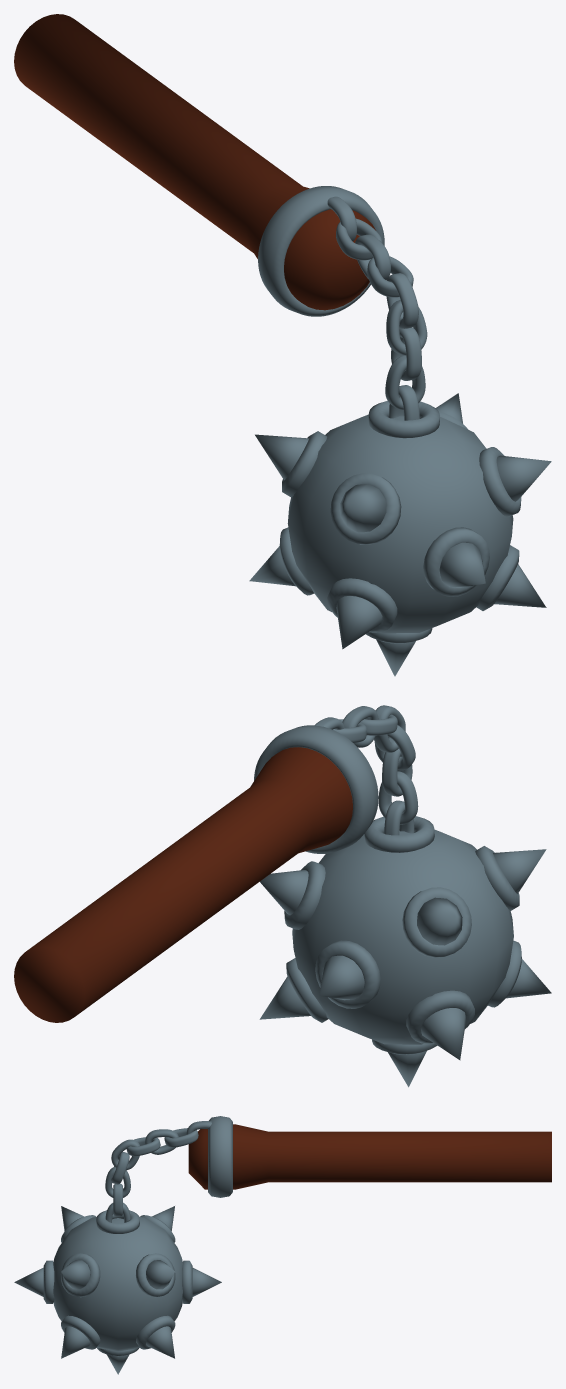
File: mass.obj
3 renders of one model, top to bottom at view 1: azimuth 30°, elevation 25°; view 2: azimuth 150°, elevation 25°; view 3: azimuth 270°, elevation 25°, orthographic. The views are drawn at different scales.
Visible parts, largest first — view 1: mass; view 2: mass; view 3: mass.
Boxes of the visible parts, <box> form: mass: <box>14,14,551,676</box>; mass: <box>14,705,551,1087</box>; mass: <box>14,1116,551,1374</box>.
Size of the model in its own units: 0.4407 by 0.8498 by 1.6.
